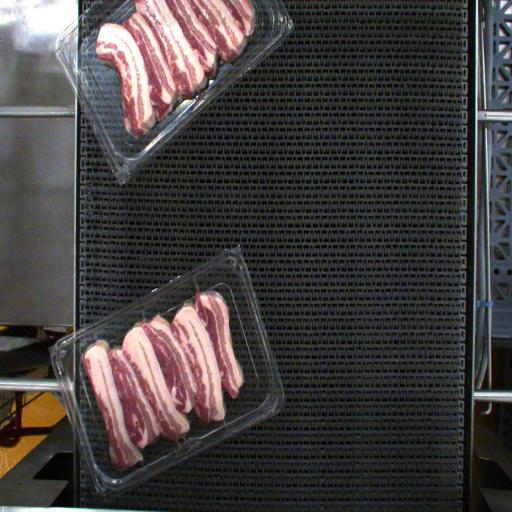packaging-error: (71, 326, 115, 358), (187, 272, 212, 296), (132, 304, 156, 328)
